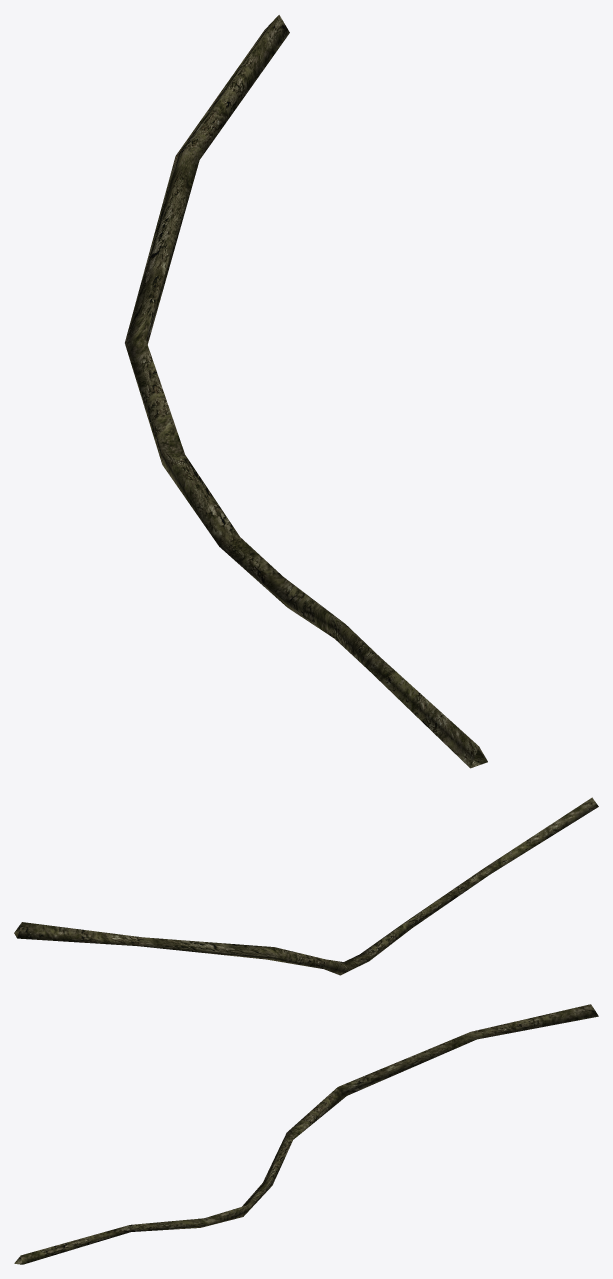
The model's file is MEP_Liana_03.fbx.
3 views of the same model, one above another, from view 1: azimuth 30°, elevation 25°; view 2: azimuth 150°, elevation 25°; view 3: azimuth 330°, elevation 25° (orthographic). The views are drawn at different scales.
Visible parts, largest first — view 1: MEP_Liana_03; view 2: MEP_Liana_03; view 3: MEP_Liana_03.
Part boxes in pixels (<box>): MEP_Liana_03: <box>125,15,487,768</box>; MEP_Liana_03: <box>14,797,598,975</box>; MEP_Liana_03: <box>14,1004,598,1264</box>.
Bounding box in the file's own units: 2.28 × 1.11 × 5.47.
